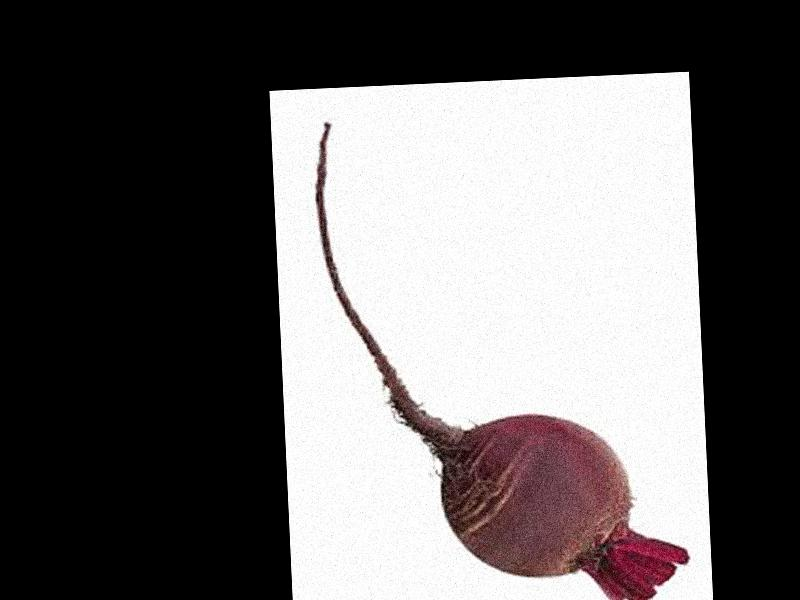Beet: (312, 102, 692, 600)
